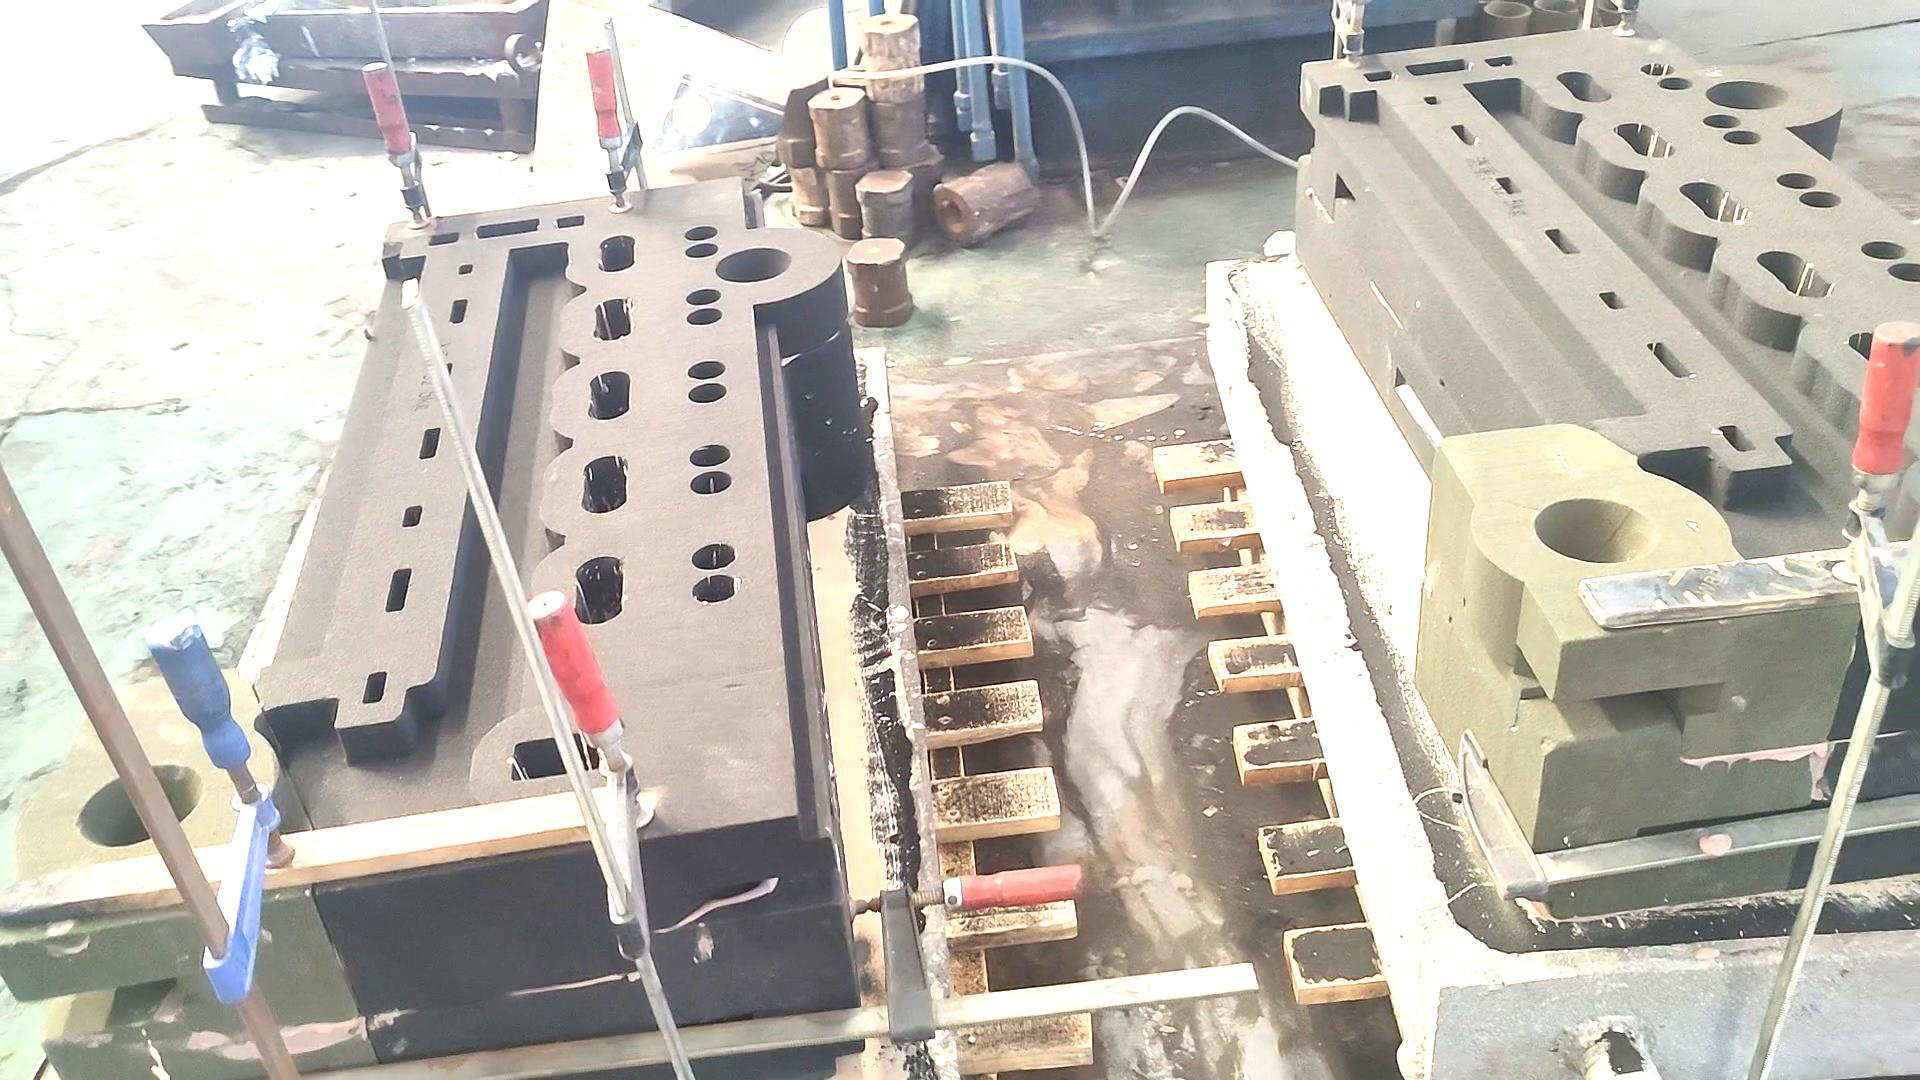pouring hole: (75, 764, 202, 847), (1534, 498, 1655, 563), (713, 247, 793, 284), (1705, 80, 1791, 109), (1484, 3, 1532, 17), (1534, 1, 1582, 15), (1597, 1, 1638, 13)
